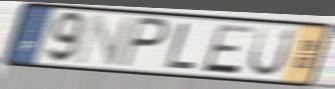9: (43, 11, 87, 65)
E: (199, 22, 257, 76)
L: (163, 21, 199, 71)
N: (73, 13, 138, 67)
P: (117, 15, 172, 71)
U: (246, 25, 297, 78)
